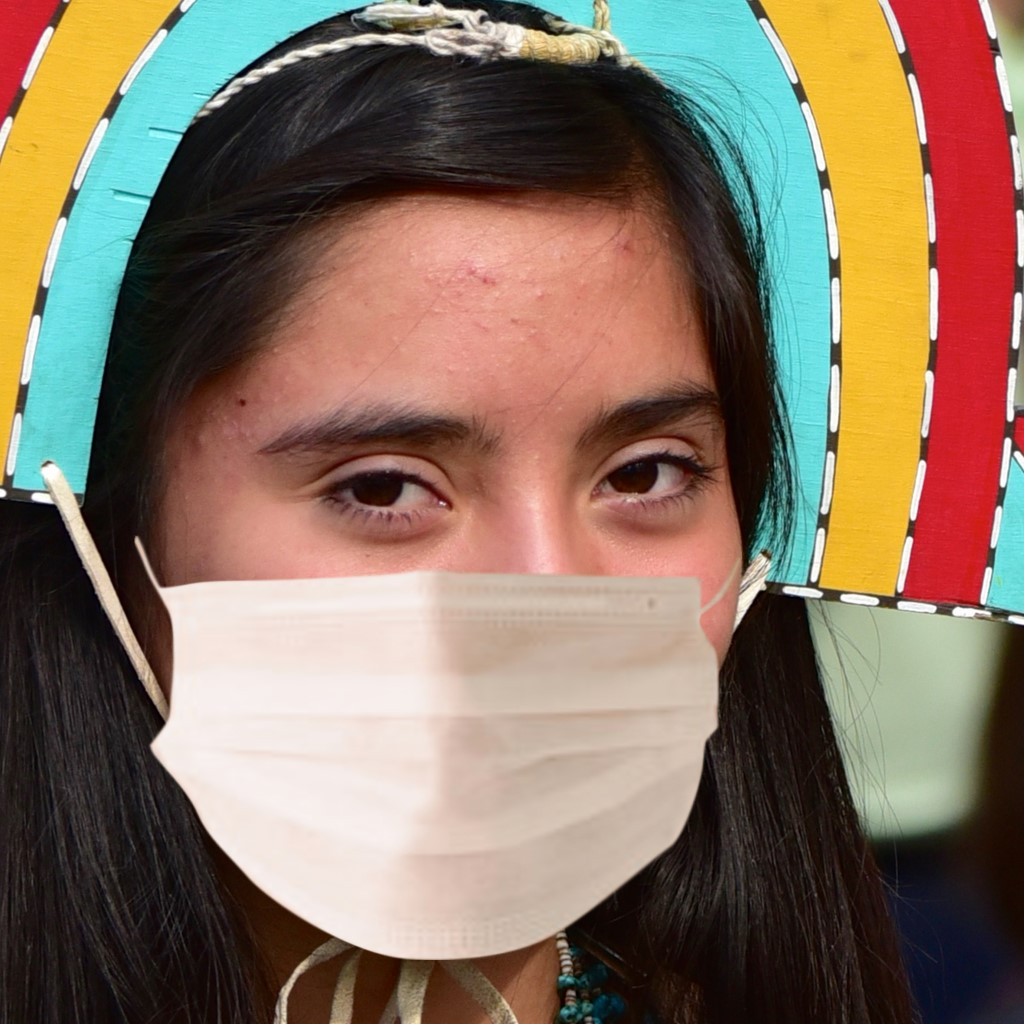con_mascara: (135, 148, 741, 929)
